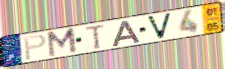4: (177, 8, 201, 37)
A: (111, 19, 142, 47)
M: (45, 26, 79, 59)
P: (23, 33, 48, 62)
T: (84, 22, 107, 50)
V: (145, 12, 174, 41)
